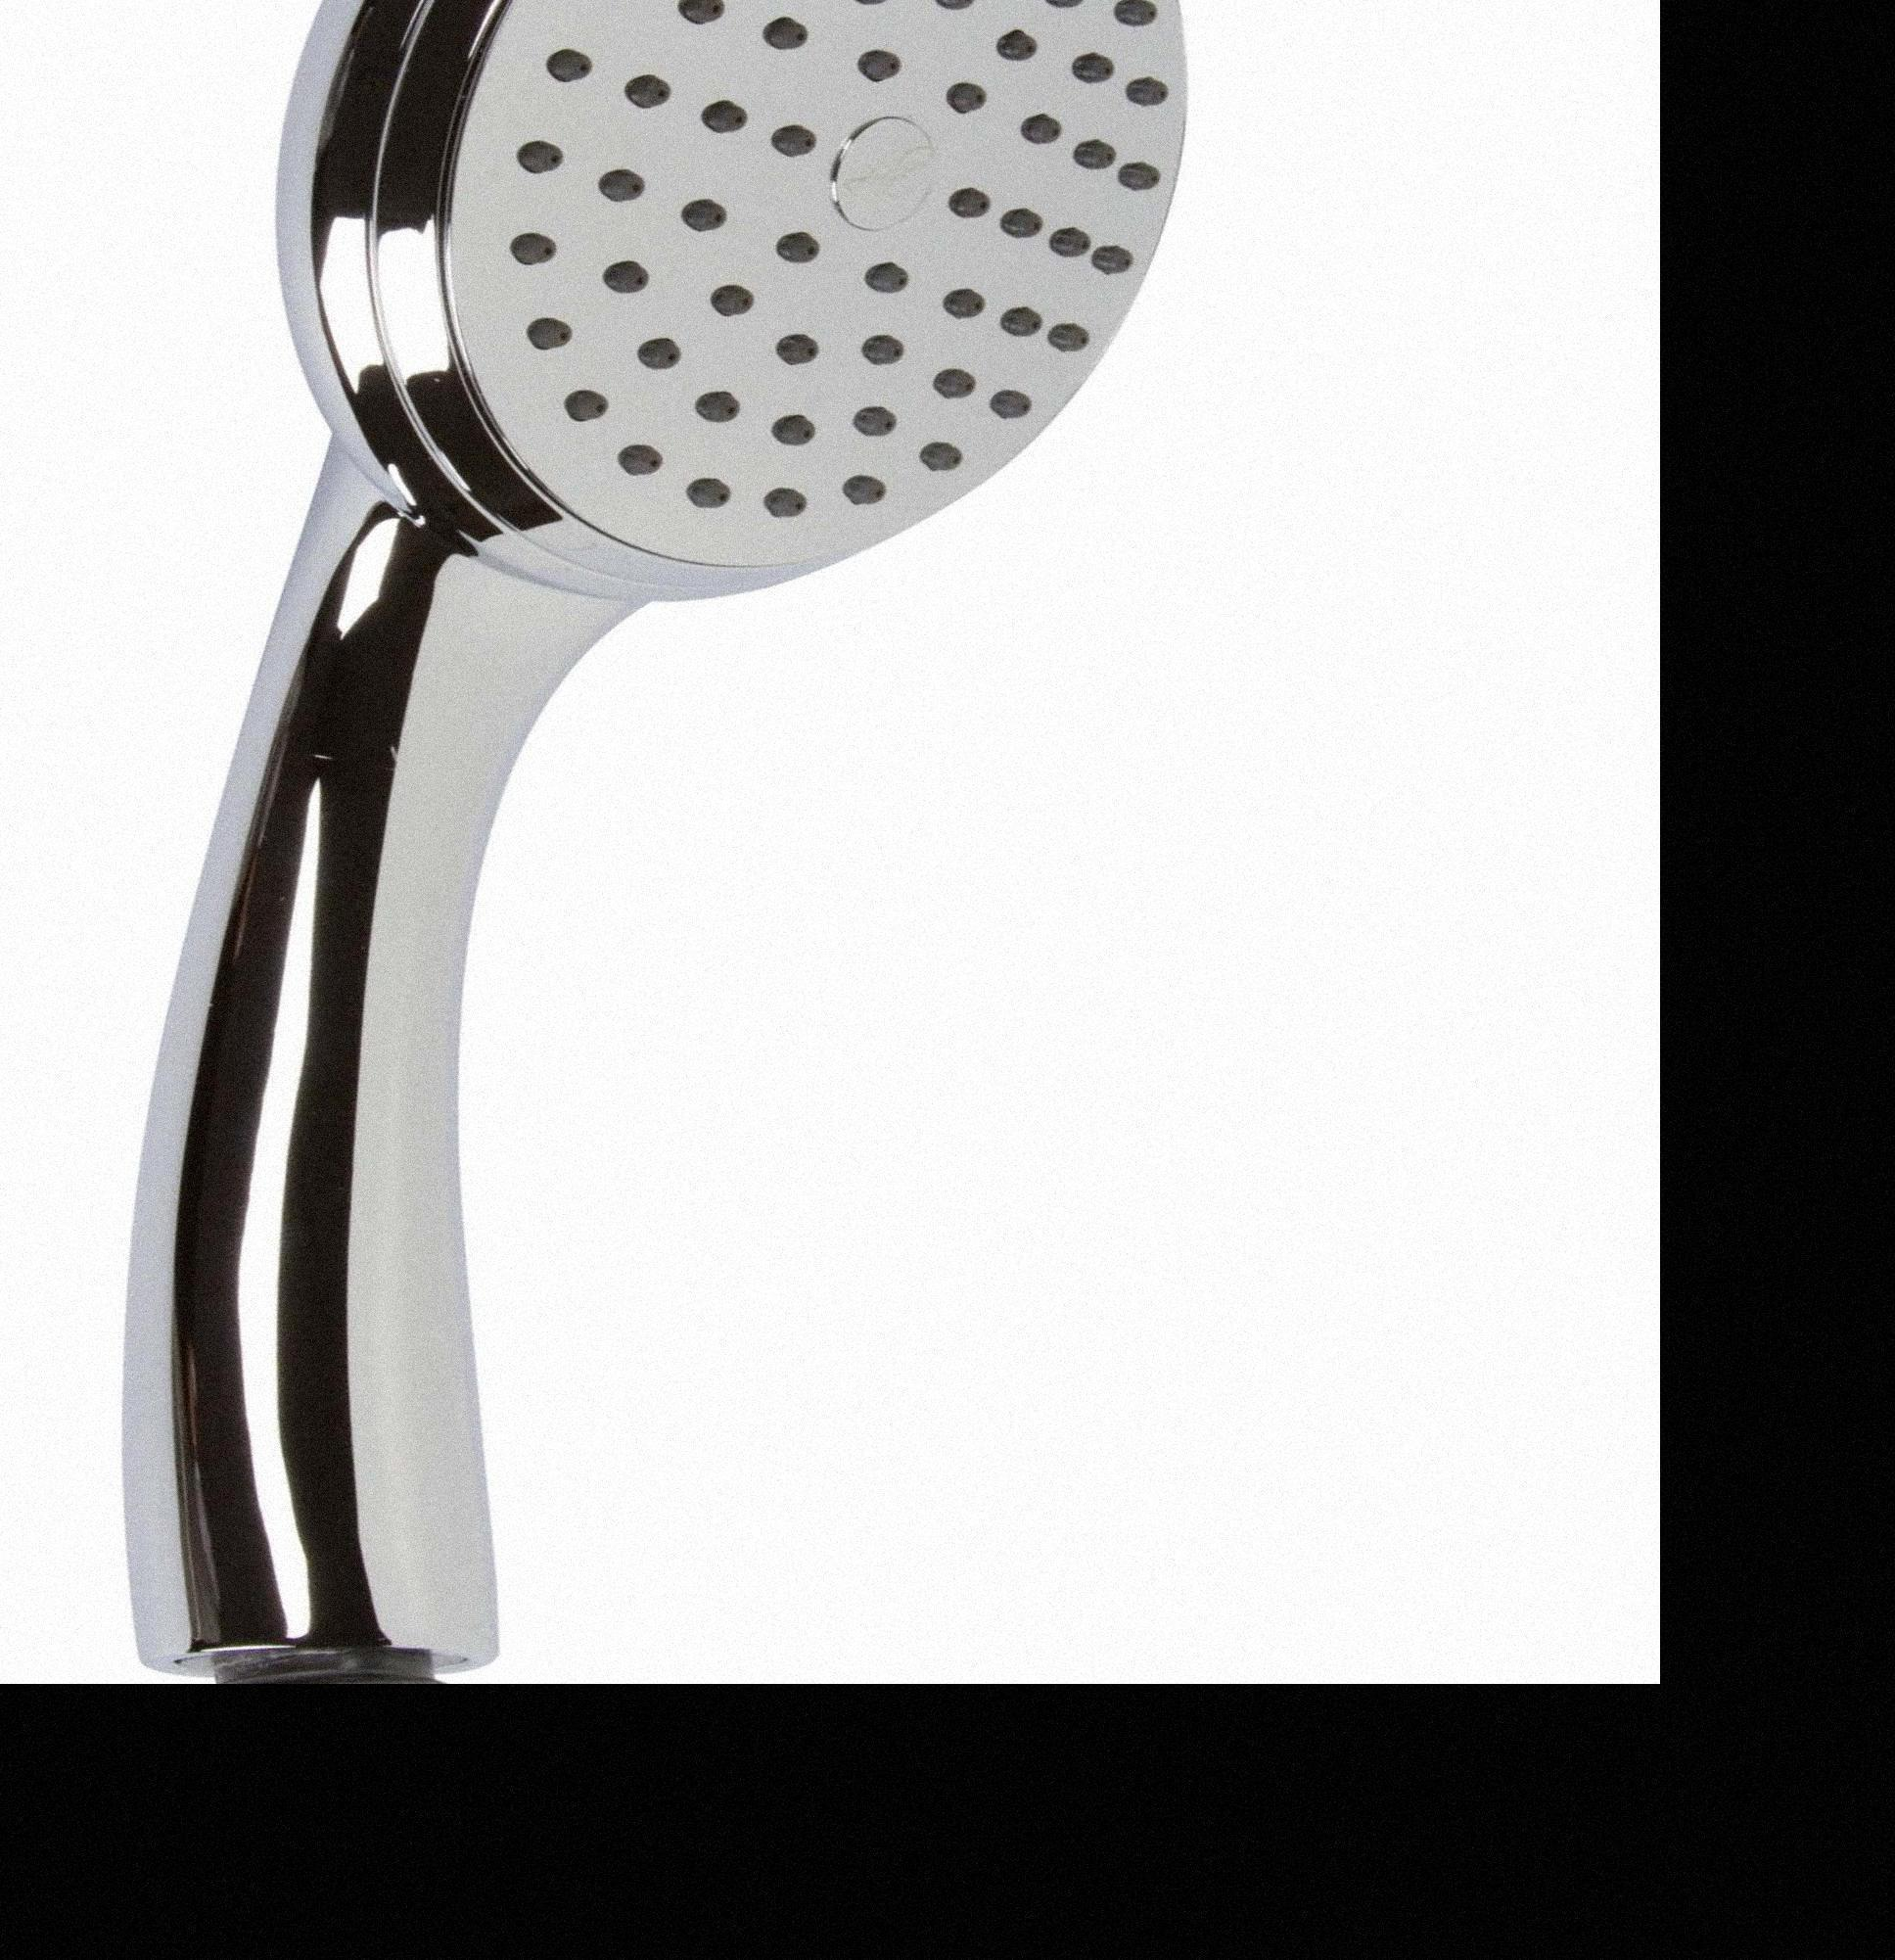Ducha: (131, 0, 1206, 1684)
